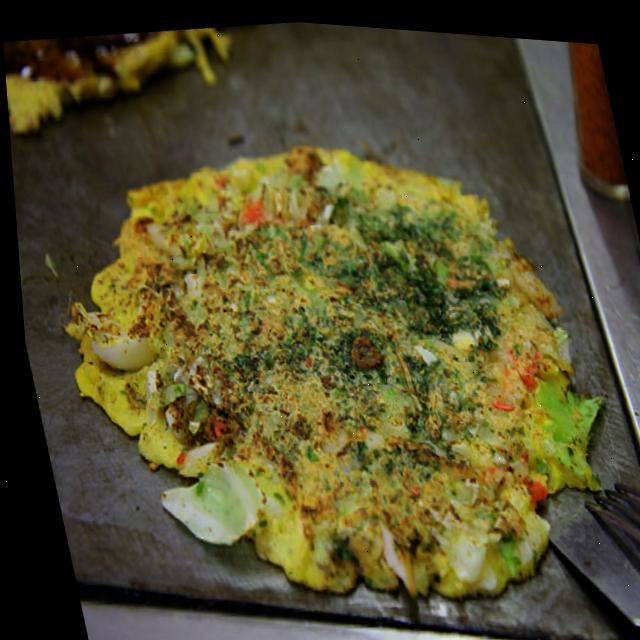蛋糕甜品: (41, 86, 616, 637)
